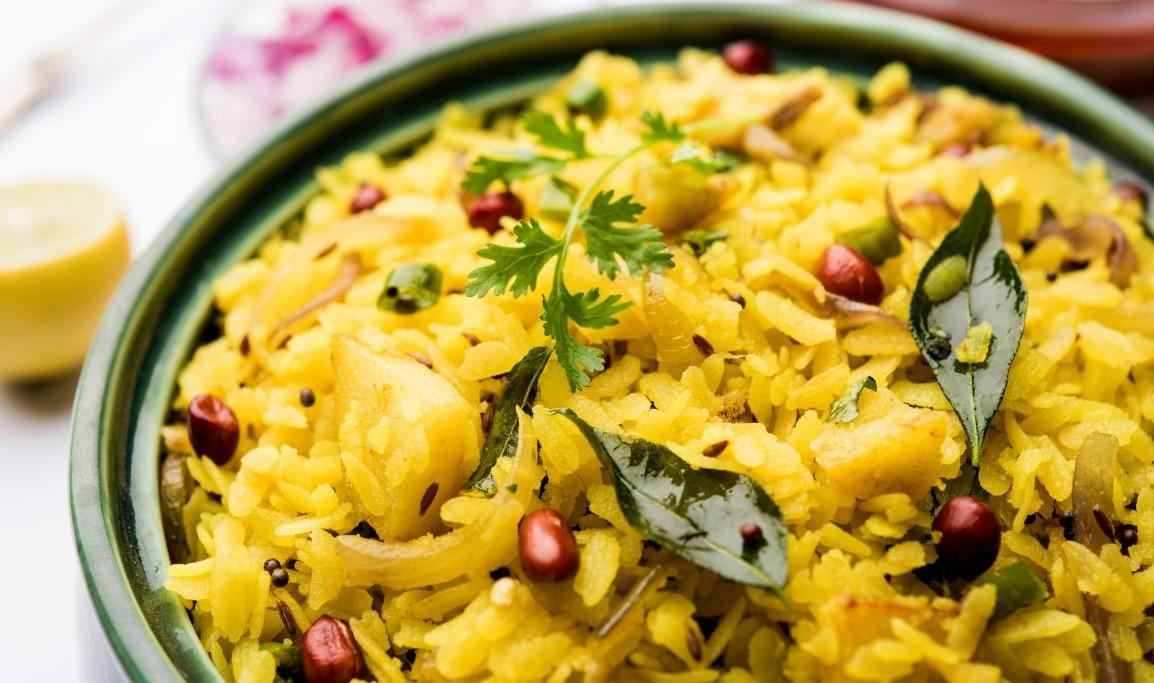Poha: (169, 40, 1154, 683)
